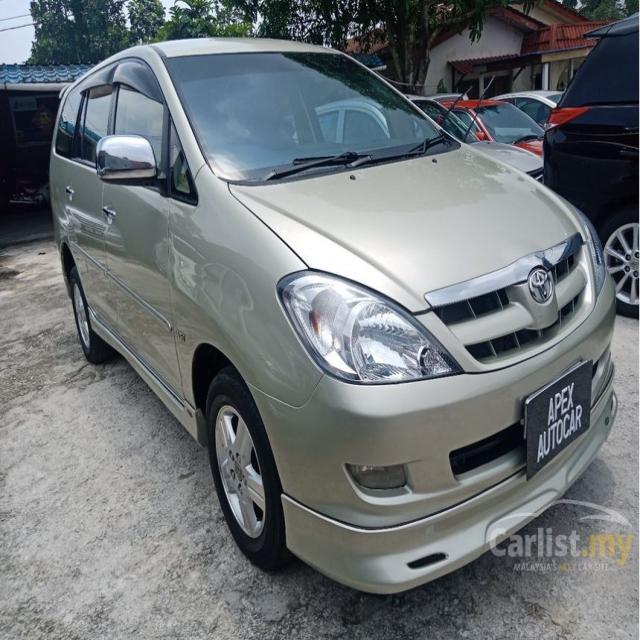light_vehicle: (48, 37, 617, 596)
